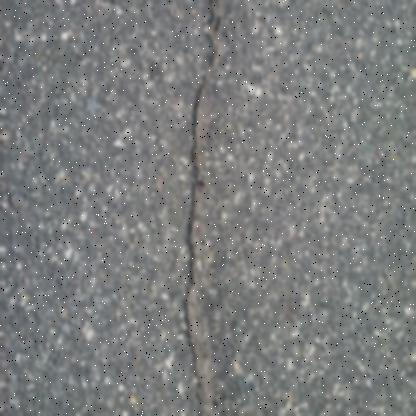Cracks: (177, 0, 226, 416)
